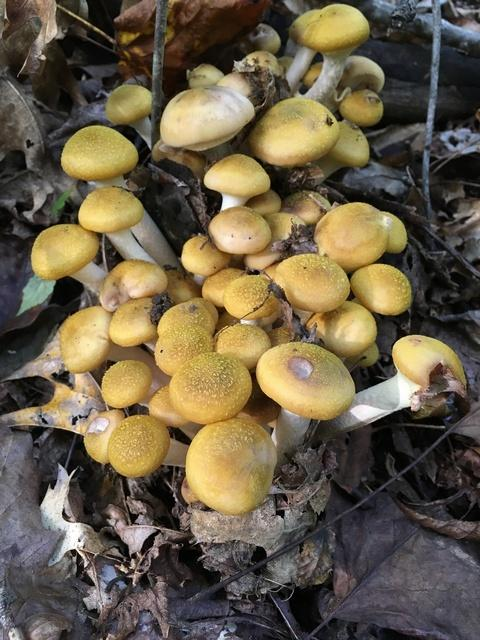Edible Mushroom: (28, 2, 464, 516)
